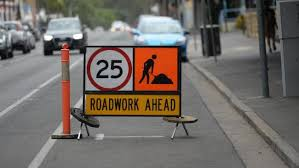sp25: (87, 47, 134, 88)
